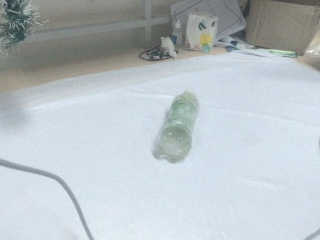bottle: (153, 89, 199, 164)
box: (245, 1, 319, 58)
